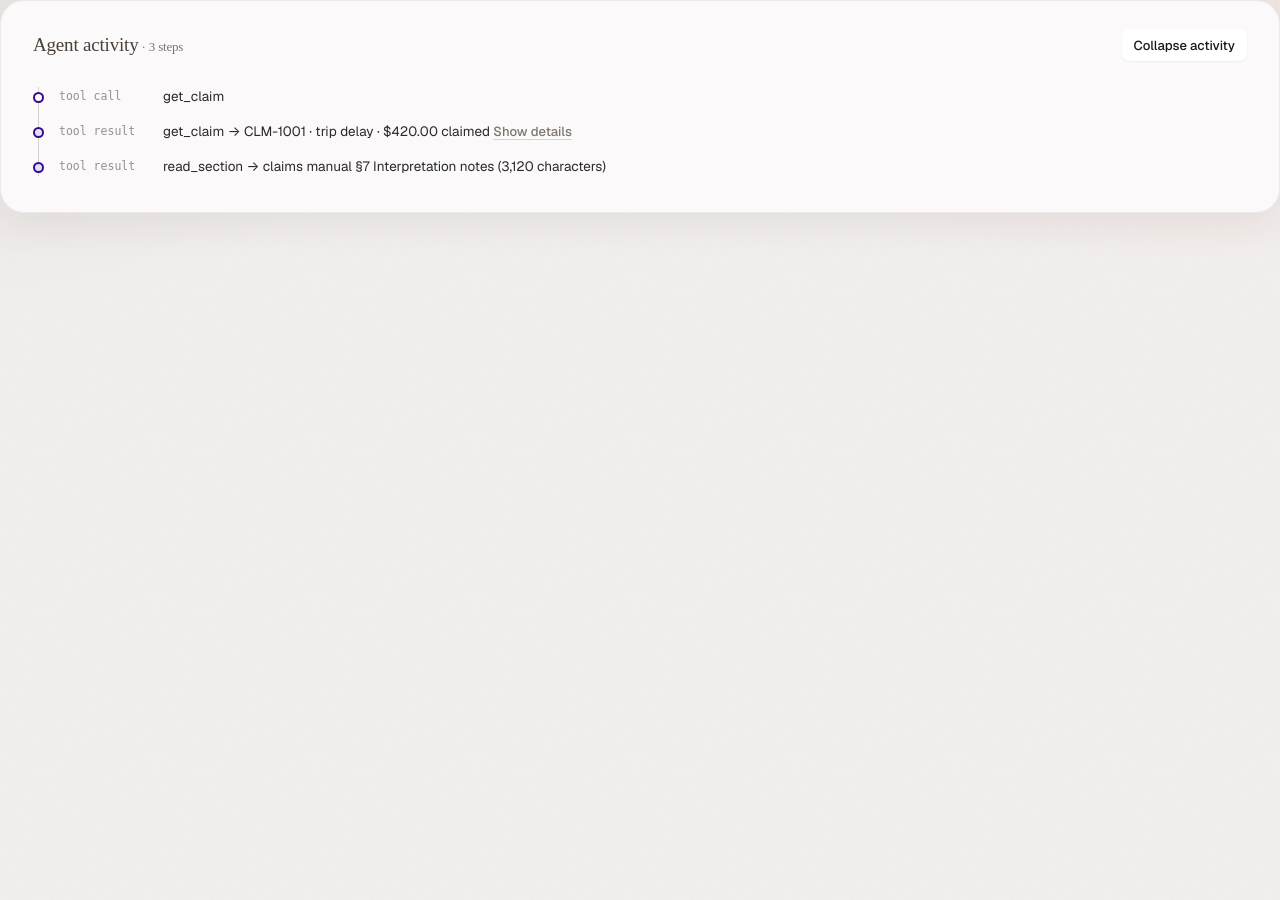
Test: Trace formatting › summarizes a tool result and shows it formatted on demand
Check: the text "get_claim → CLM-1001 · trip delay · $420.00 claimed" is shown, box [163, 122, 490, 140]
Step 1. Click the button "Show details" → [533, 131], box [493, 123, 572, 140]
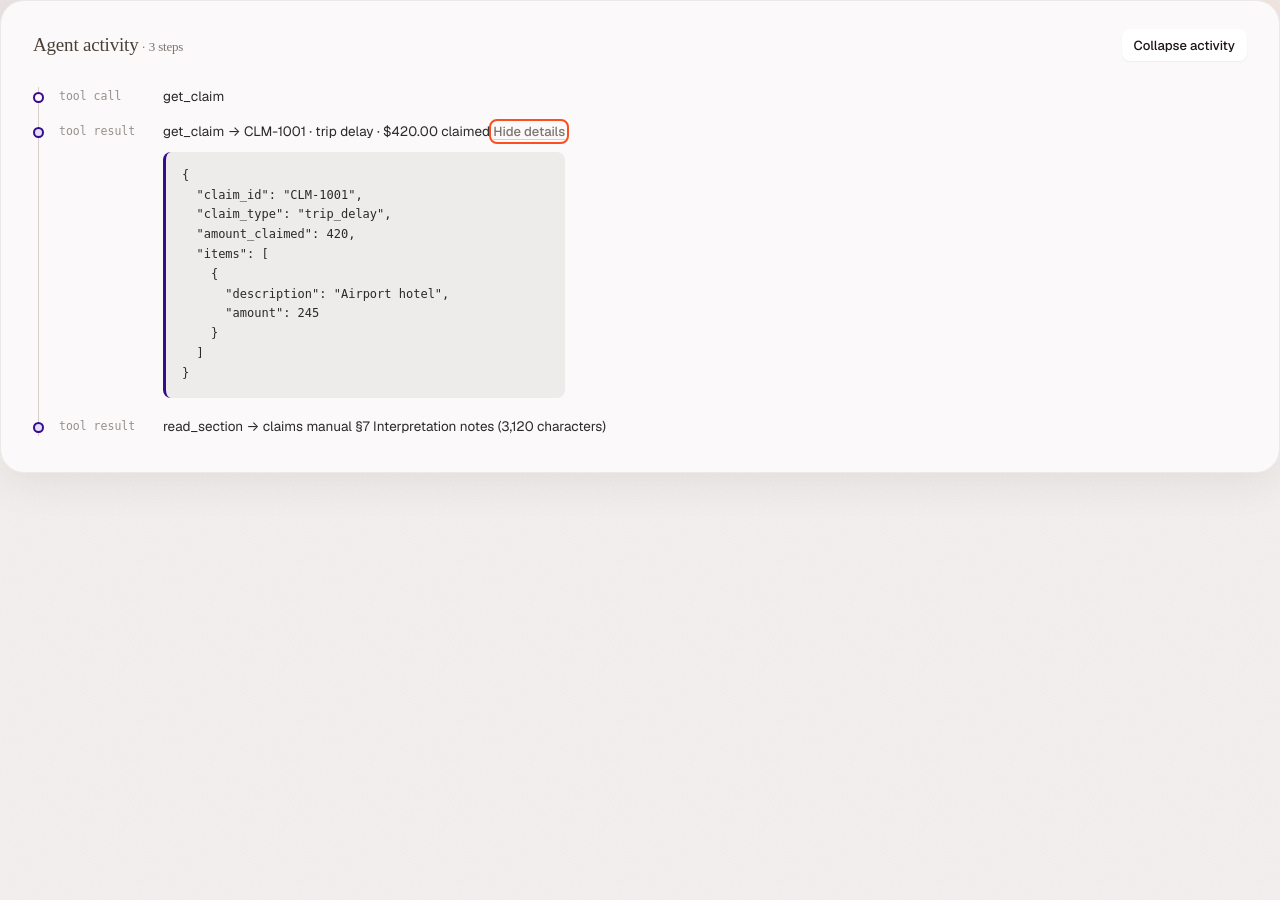
Check: the text with class "json" shows "\"claim_id\": \"CLM-1001\"", box [182, 168, 449, 380]
Step 2. Click the button "Hide details" → [529, 131], box [493, 123, 565, 140]
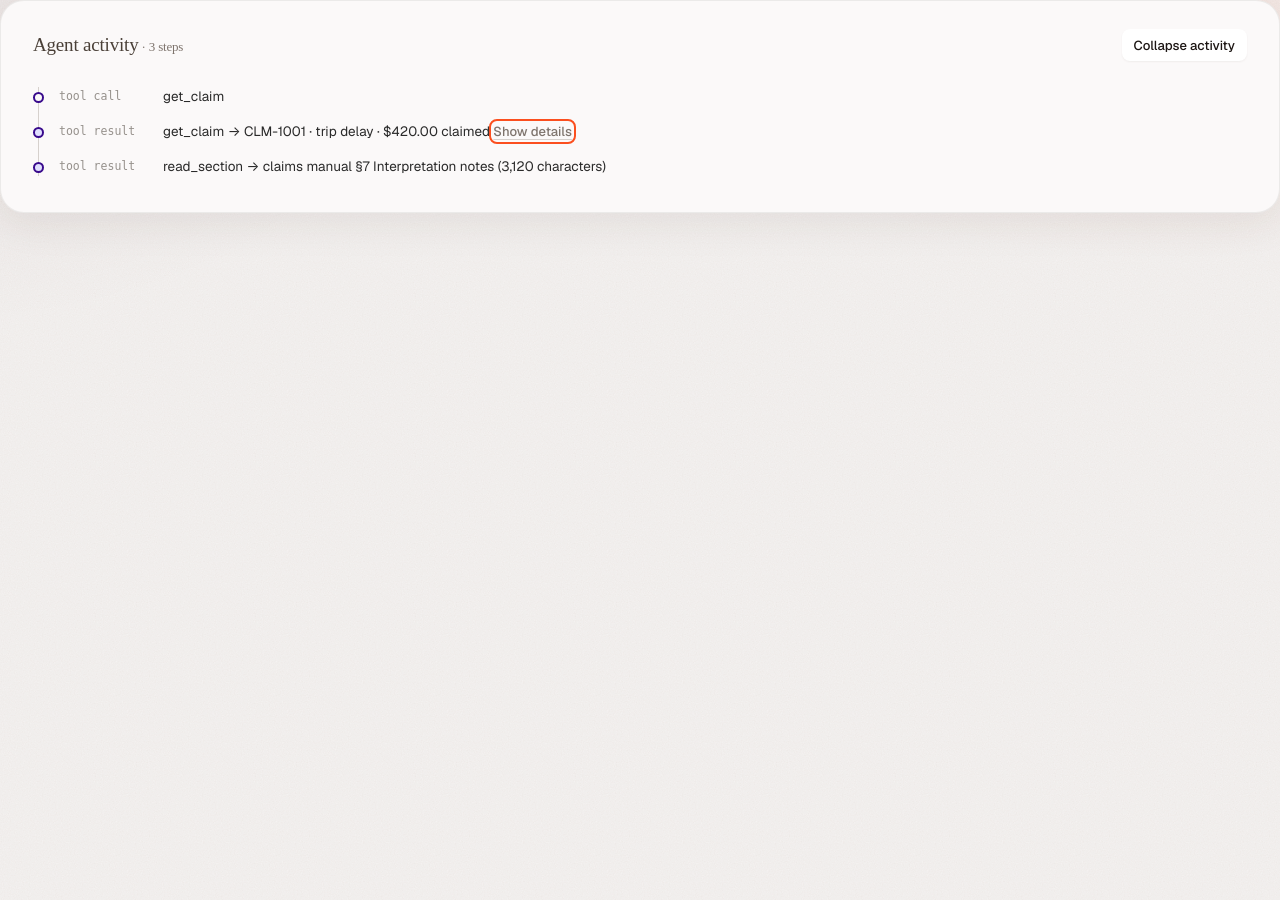
Check: the text with class "json" is gone
